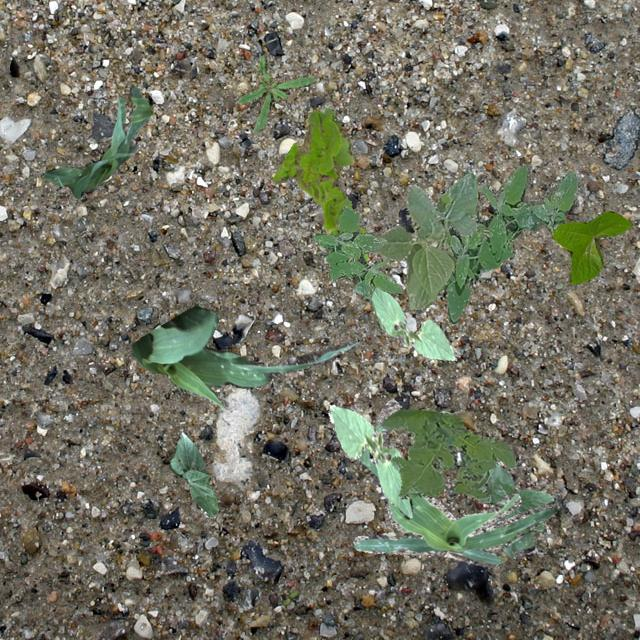crop: (352, 398, 554, 566), (132, 304, 356, 408), (372, 172, 478, 308), (42, 84, 152, 198), (328, 403, 412, 518), (482, 462, 552, 558), (370, 286, 454, 360), (550, 210, 630, 284), (168, 432, 218, 518)
weed: (440, 165, 580, 322), (272, 107, 368, 260), (378, 408, 516, 502), (312, 205, 402, 298), (236, 54, 314, 132)
